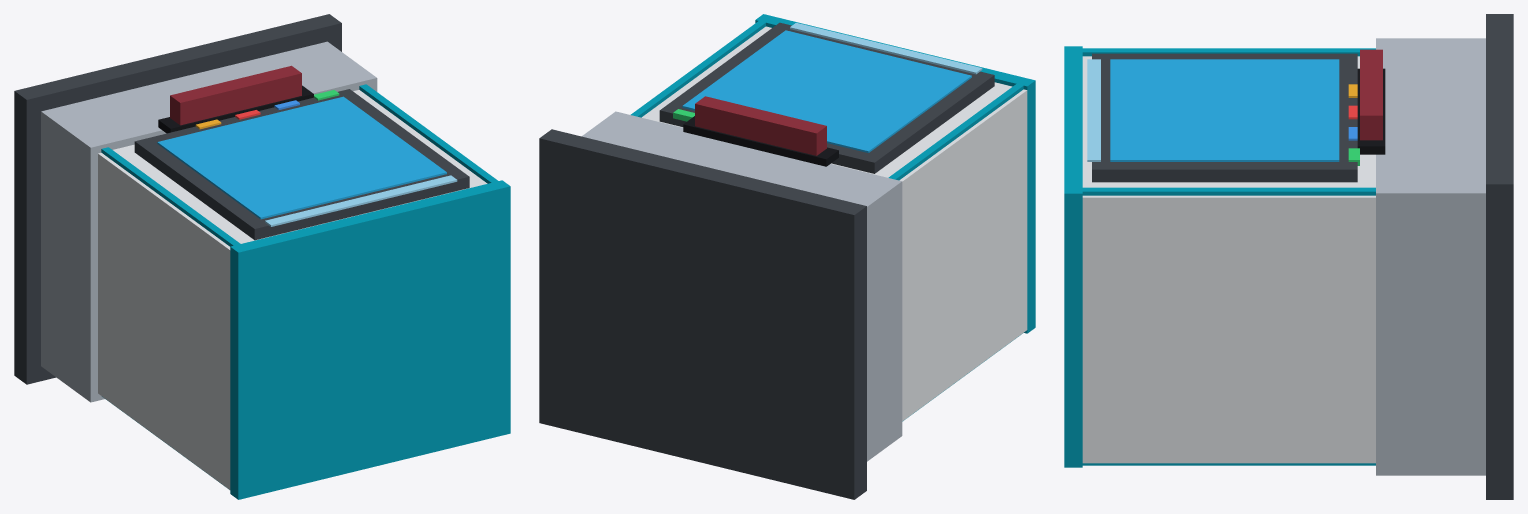
Rendered from self_visa.obj.
The picture shows the model from 3 angles, left to right: view 1: azimuth 30°, elevation 25°; view 2: azimuth 150°, elevation 25°; view 3: azimuth 270°, elevation 25°; orthographic projection. The views are drawn at different scales.
Parts seen in each view (by area): view 1: DEV_08_self_visa_accent, DEV_02_self_visa_body, DEV_01_self_visa_body2, DEV_04_self_visa_screen, DEV_00_self_visa_trim, DEV_03_self_visa_trim, DEV_06_self_visa_passport, DEV_07_self_visa_screen2, DEV_10_self_visa_accent, DEV_09_self_visa_accent, DEV_05_self_visa_slot; view 2: DEV_00_self_visa_trim, DEV_02_self_visa_body, DEV_01_self_visa_body2, DEV_04_self_visa_screen, DEV_03_self_visa_trim, DEV_06_self_visa_passport, DEV_08_self_visa_accent, DEV_07_self_visa_screen2, DEV_05_self_visa_slot, DEV_10_self_visa_accent, DEV_09_self_visa_accent; view 3: DEV_02_self_visa_body, DEV_01_self_visa_body2, DEV_04_self_visa_screen, DEV_00_self_visa_trim, DEV_03_self_visa_trim, DEV_08_self_visa_accent, DEV_09_self_visa_accent, DEV_06_self_visa_passport, DEV_10_self_visa_accent, DEV_07_self_visa_screen2, DEV_05_self_visa_slot.
Boxes of the visible parts, <box> form: DEV_08_self_visa_accent: <box>230,180,510,499</box>; DEV_02_self_visa_body: <box>98,90,487,489</box>; DEV_01_self_visa_body2: <box>41,41,377,402</box>; DEV_04_self_visa_screen: <box>157,96,446,219</box>; DEV_00_self_visa_trim: <box>14,14,341,384</box>; DEV_03_self_visa_trim: <box>134,89,469,240</box>; DEV_06_self_visa_passport: <box>170,65,301,125</box>; DEV_07_self_visa_screen2: <box>265,175,457,226</box>; DEV_10_self_visa_accent: <box>101,147,240,489</box>; DEV_09_self_visa_accent: <box>359,84,497,183</box>; DEV_05_self_visa_slot: <box>158,85,313,133</box>; DEV_00_self_visa_trim: <box>539,129,866,499</box>; DEV_02_self_visa_body: <box>642,26,1027,420</box>; DEV_01_self_visa_body2: <box>582,111,902,461</box>; DEV_04_self_visa_screen: <box>682,30,971,152</box>; DEV_03_self_visa_trim: <box>659,22,994,173</box>; DEV_06_self_visa_passport: <box>695,96,826,155</box>; DEV_08_self_visa_accent: <box>755,14,1035,333</box>; DEV_07_self_visa_screen2: <box>790,22,982,74</box>; DEV_05_self_visa_slot: <box>683,116,838,166</box>; DEV_10_self_visa_accent: <box>888,84,1023,421</box>; DEV_09_self_visa_accent: <box>630,21,765,117</box>; DEV_02_self_visa_body: <box>1082,56,1375,463</box>; DEV_01_self_visa_body2: <box>1376,38,1485,475</box>; DEV_04_self_visa_screen: <box>1110,59,1339,161</box>; DEV_00_self_visa_trim: <box>1486,14,1513,499</box>; DEV_03_self_visa_trim: <box>1092,53,1357,182</box>; DEV_08_self_visa_accent: <box>1064,46,1082,467</box>; DEV_09_self_visa_accent: <box>1082,187,1375,465</box>; DEV_06_self_visa_passport: <box>1360,49,1382,140</box>; DEV_10_self_visa_accent: <box>1082,48,1375,56</box>; DEV_07_self_visa_screen2: <box>1087,59,1100,161</box>; DEV_05_self_visa_slot: <box>1357,68,1385,154</box>.
Bounding box in the file's own units: 0.88 × 0.8 × 0.98.
